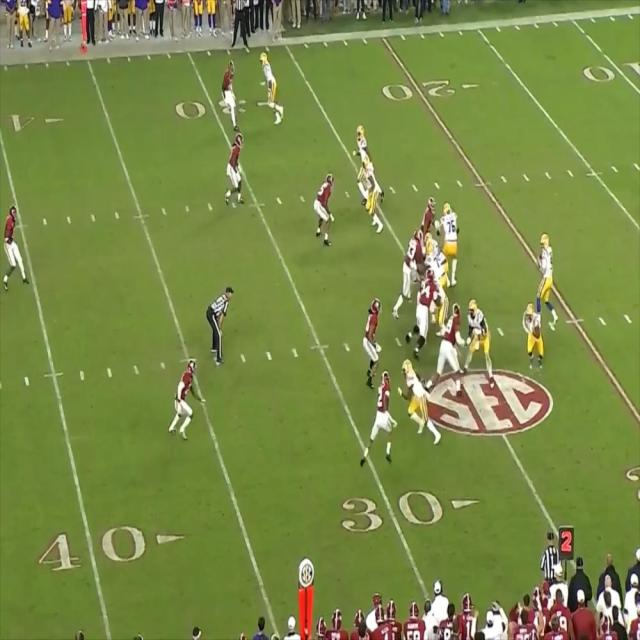db: (368, 366, 392, 459), (174, 364, 197, 438), (4, 204, 23, 288), (228, 133, 246, 206), (224, 57, 239, 122)
lb: (363, 292, 384, 388), (312, 175, 334, 246)
qb: (540, 238, 557, 318)
skill: (402, 361, 439, 443), (353, 125, 373, 193), (523, 300, 542, 368), (261, 50, 279, 121), (364, 158, 382, 224)
